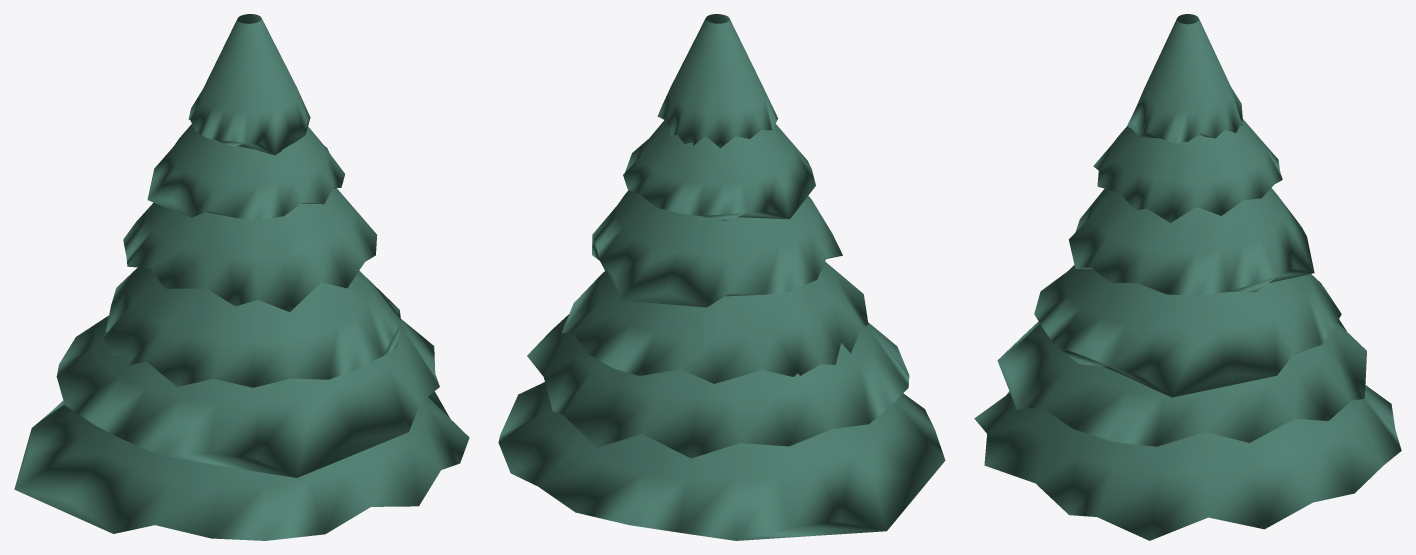
File: ChristmasTree.gltf
3 renders of one model, left to right at view 1: azimuth 30°, elevation 25°; view 2: azimuth 150°, elevation 25°; view 3: azimuth 270°, elevation 25°, orthographic. The views are drawn at different scales.
Parts seen in each view (by area): view 1: Cone006, Cone005, Cone004, Cone003, Cone002, Cone001; view 2: Cone006, Cone005, Cone004, Cone003, Cone002, Cone001; view 3: Cone006, Cone004, Cone005, Cone003, Cone002, Cone001.
Boxes of the visible parts, bbox=[...] form: Cone006: bbox=[14, 391, 469, 540]; Cone005: bbox=[56, 315, 439, 477]; Cone004: bbox=[104, 267, 401, 387]; Cone003: bbox=[123, 188, 377, 312]; Cone002: bbox=[147, 124, 345, 220]; Cone001: bbox=[188, 14, 310, 155]; Cone006: bbox=[498, 382, 945, 540]; Cone005: bbox=[527, 314, 909, 458]; Cone004: bbox=[561, 261, 868, 383]; Cone003: bbox=[592, 190, 842, 307]; Cone002: bbox=[623, 120, 815, 221]; Cone001: bbox=[657, 14, 777, 147]; Cone006: bbox=[974, 385, 1401, 540]; Cone004: bbox=[1034, 265, 1341, 397]; Cone005: bbox=[997, 319, 1366, 446]; Cone003: bbox=[1069, 188, 1314, 295]; Cone002: bbox=[1093, 119, 1282, 222]; Cone001: bbox=[1127, 14, 1242, 143].
Size of the model in its own units: 24.05 by 28.01 by 23.19.
